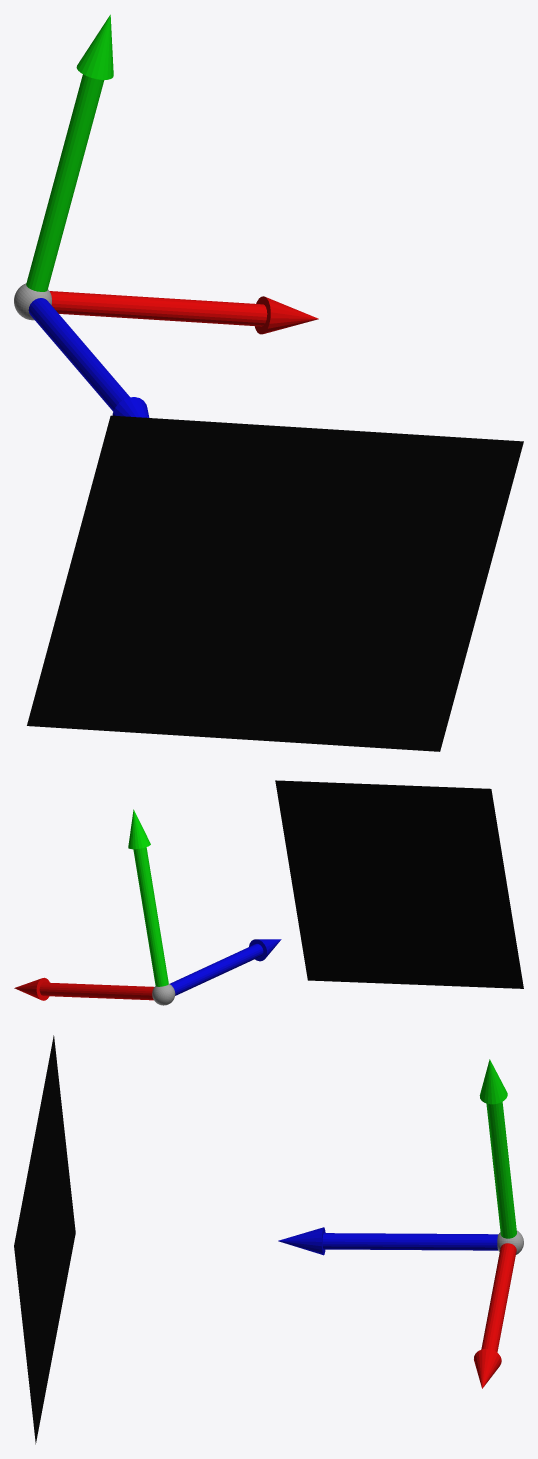
The picture shows the model from 3 angles, top to bottom: view 1: azimuth 30°, elevation 25°; view 2: azimuth 150°, elevation 25°; view 3: azimuth 270°, elevation 25°; orthographic projection. The views are drawn at different scales.
Size of the model in its own units: 0.2567 by 0.2222 by 0.2713.
